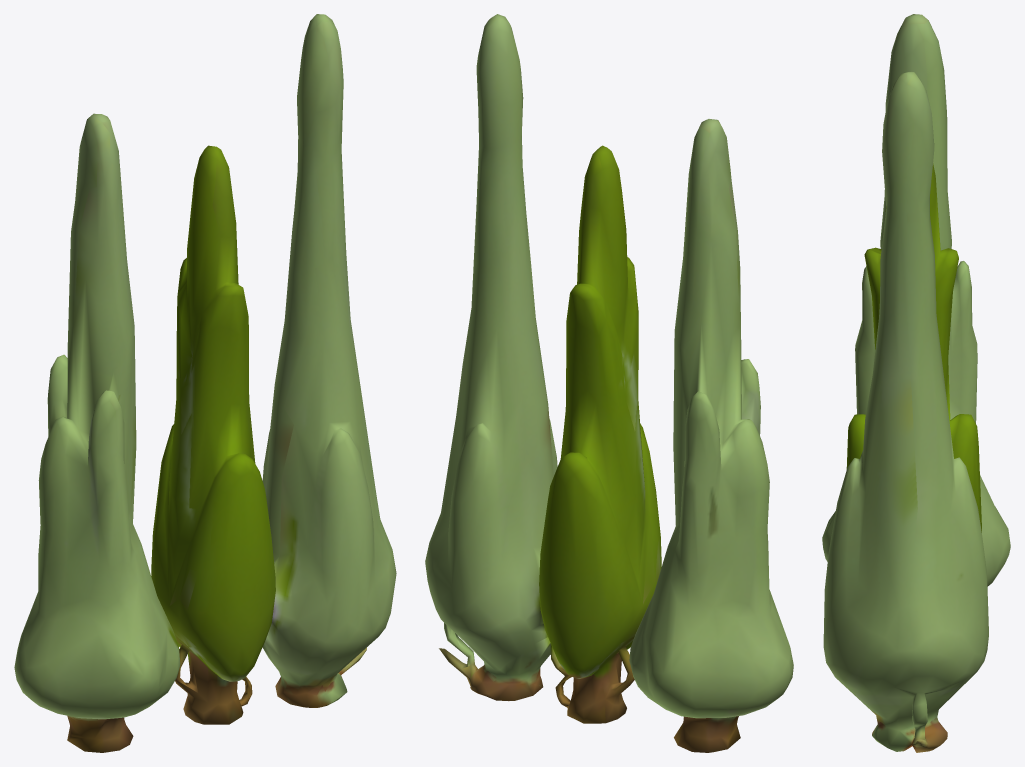
The model's file is Tree03.fbx.
3 renders of one model, left to right at view 1: azimuth 30°, elevation 25°; view 2: azimuth 150°, elevation 25°; view 3: azimuth 270°, elevation 25°, orthographic.
Parts seen in each view (by area): view 1: node_0; view 2: node_0; view 3: node_0.
Part boxes in pixels (x1,y1,x2,y2): node_0: (14,14,396,752); node_0: (425,14,793,752); node_0: (822,14,1010,752).
Size of the model in its own units: 17.36 by 31.03 by 7.9.
1 material, 1 textured.
